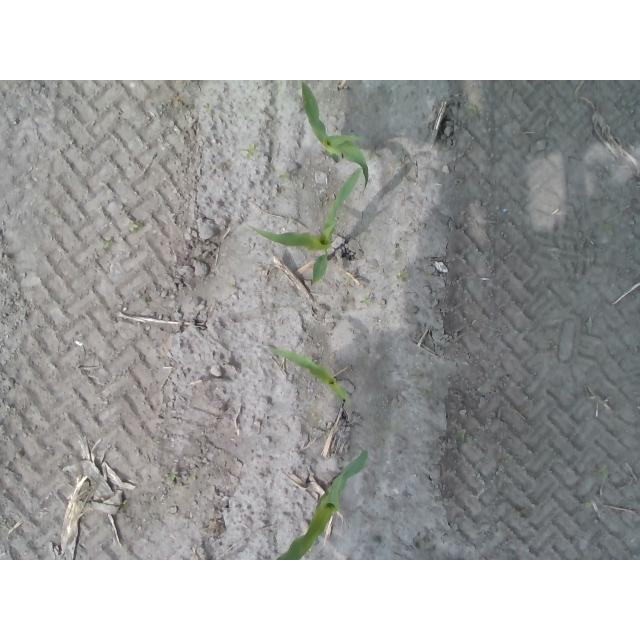Maize: (248, 167, 364, 288), (277, 446, 370, 560), (298, 81, 368, 191), (271, 348, 352, 407)
Weeds: (244, 144, 256, 161), (130, 222, 143, 234), (360, 295, 372, 305), (165, 472, 176, 482)
